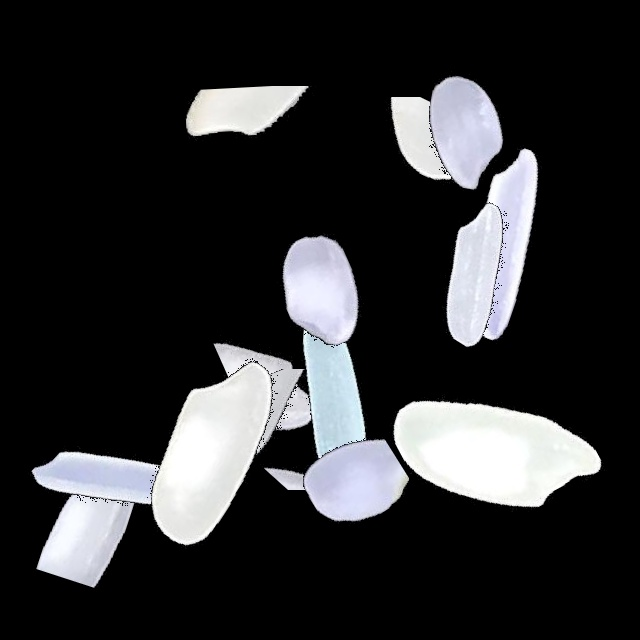Broken: (12, 376, 178, 626), (245, 376, 409, 626), (172, 369, 422, 514), (170, 298, 420, 431), (285, 97, 535, 199), (148, 86, 398, 188), (183, 390, 433, 490)
Full: (376, 118, 626, 368), (353, 148, 603, 398), (210, 274, 460, 524), (4, 363, 254, 613), (368, 321, 618, 571), (86, 323, 336, 573), (194, 168, 444, 418), (338, 6, 588, 256)
